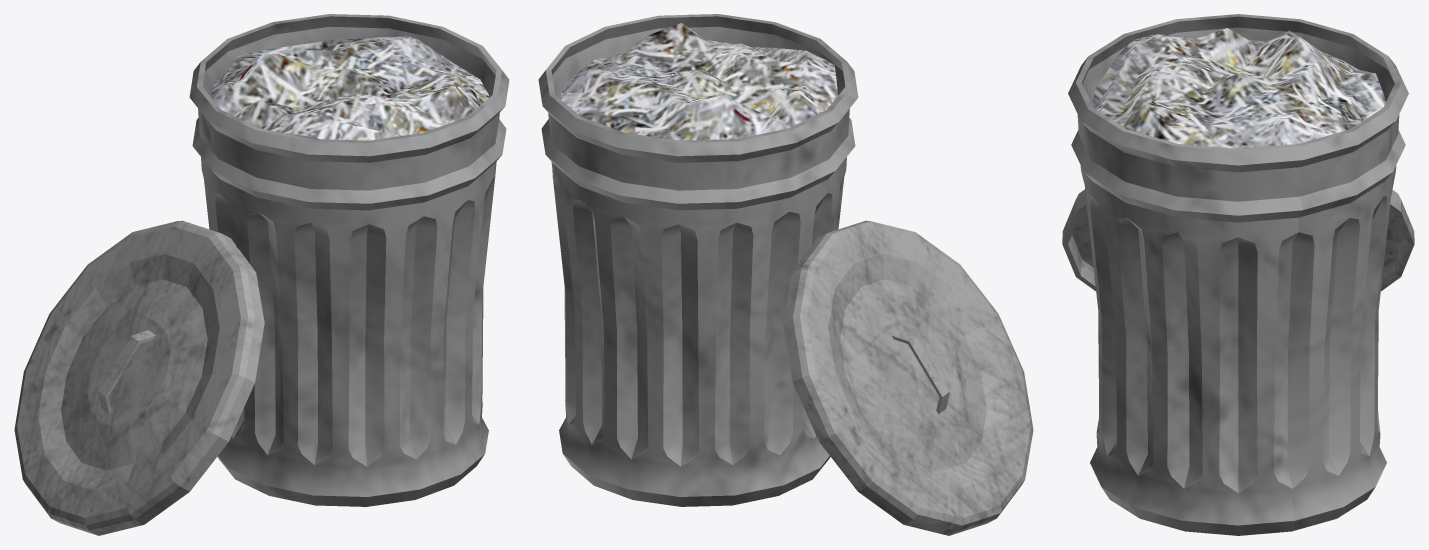
File: Laton de basura.fbx
3 renders of one model, left to right at view 1: azimuth 30°, elevation 25°; view 2: azimuth 150°, elevation 25°; view 3: azimuth 270°, elevation 25°, orthographic. The views are drawn at different scales.
Visible parts, largest first — view 1: Laton, Tapa_laton, Basura_laton; view 2: Laton, Tapa_laton, Basura_laton; view 3: Laton, Basura_laton, Tapa_laton.
Boxes of the visible parts, <box> form: Laton: <box>189,14,509,506</box>; Tapa_laton: <box>14,220,264,535</box>; Basura_laton: <box>211,36,488,140</box>; Laton: <box>538,14,858,506</box>; Tapa_laton: <box>783,220,1033,535</box>; Basura_laton: <box>559,23,837,140</box>; Laton: <box>1068,14,1408,535</box>; Basura_laton: <box>1092,28,1386,148</box>; Tapa_laton: <box>1062,189,1414,291</box>.
Size of the model in its own units: 459 by 389 by 300.
Materials: 2 (2 with a texture image).
